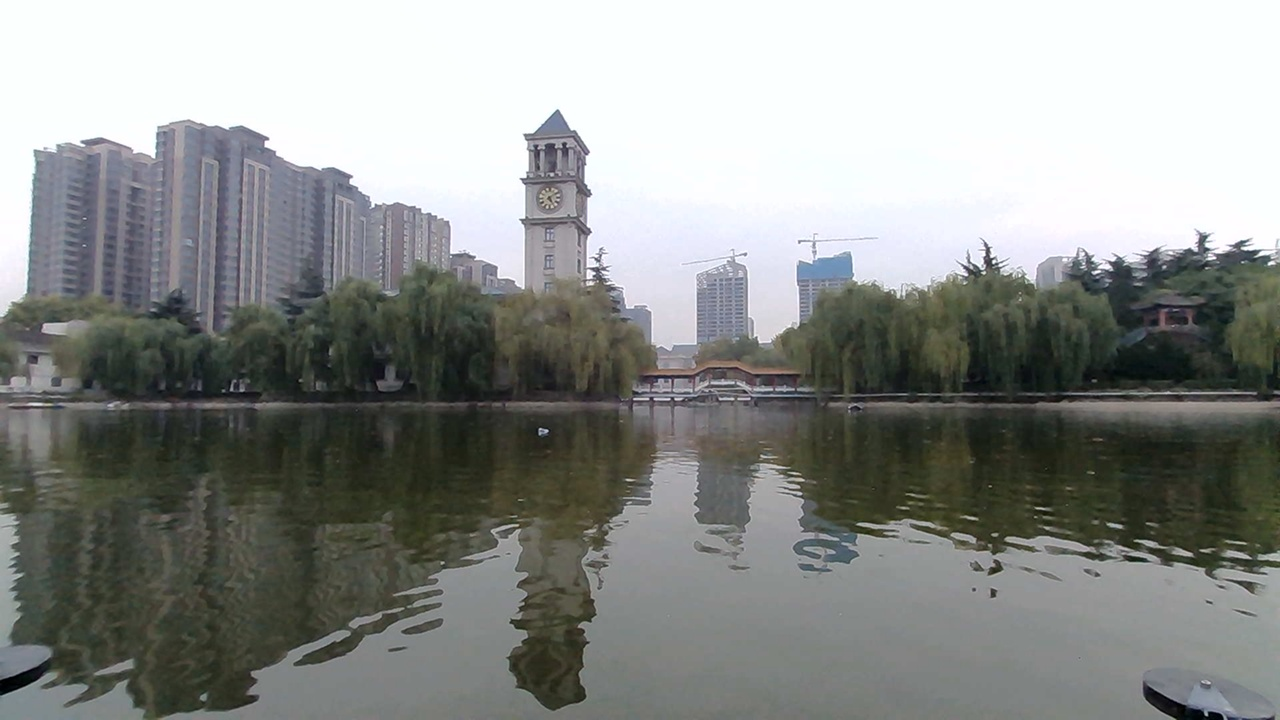bottle: (531, 418, 559, 440)
